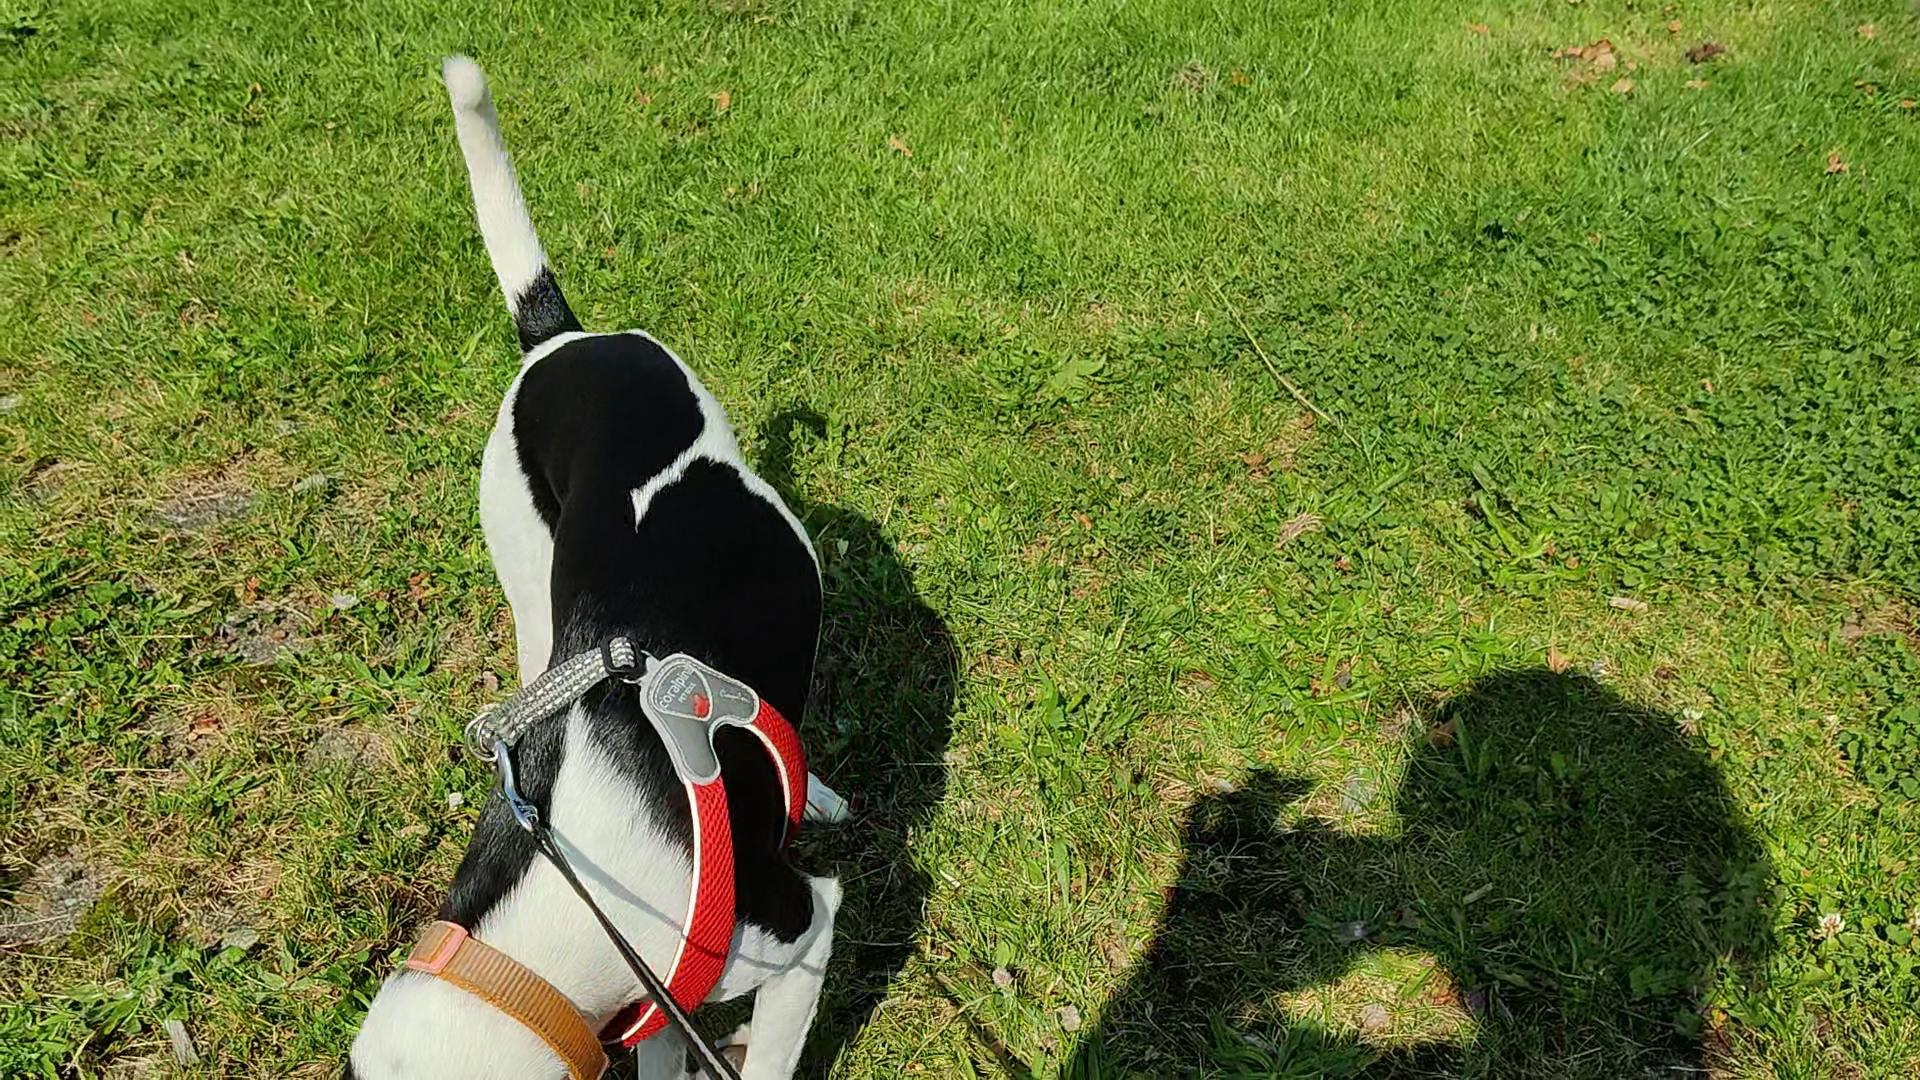Dog: (309, 37, 876, 1079)
